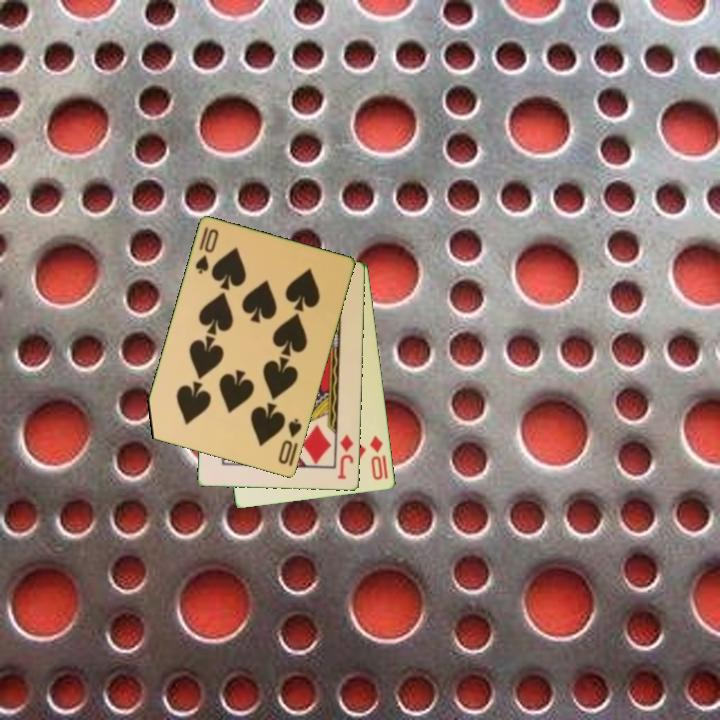10d: (367, 432, 386, 483)
10s: (275, 415, 305, 468), (192, 224, 222, 277)
Jd: (334, 432, 356, 482)
